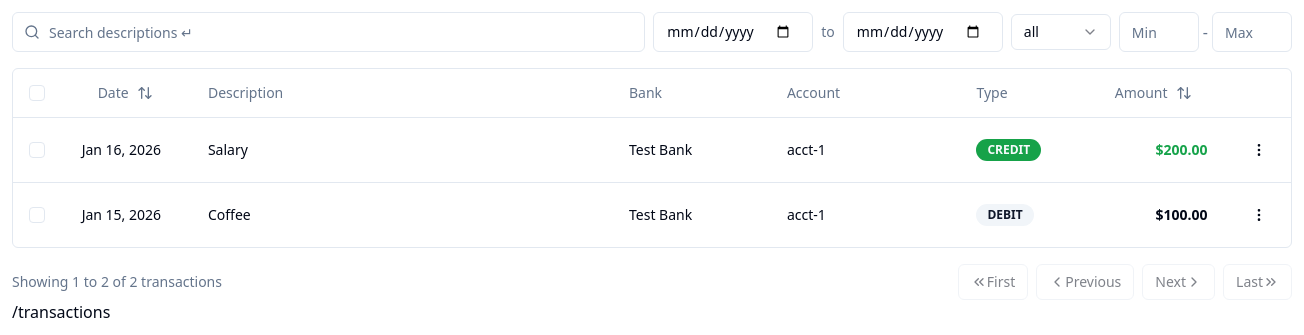
Scenario: TransactionTable permission gating › shows the select column and Edit + Delete row actions when all permissions are granted
Expected: the number of checkboxes is 3, [29,85,45,101]; [29,142,45,158]; [29,206,45,222]
Click the button named "open menu" in the row of "Jan 16, 2026": (1259, 150) [1243,134,1275,166]
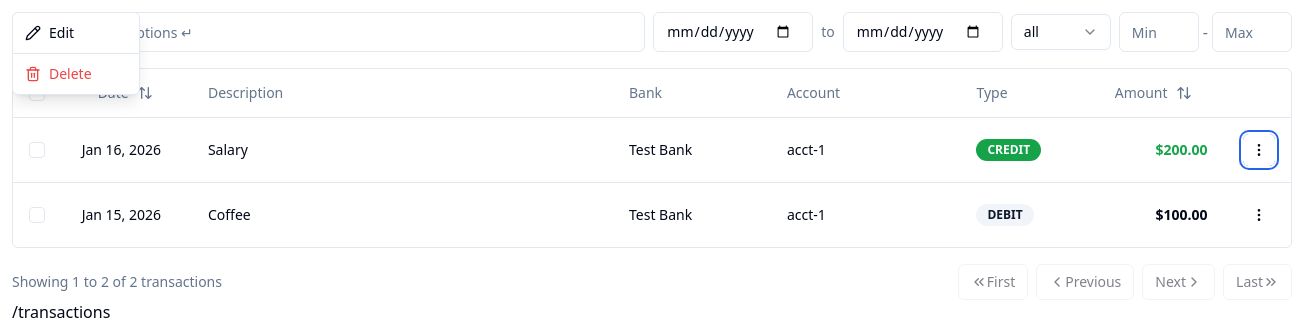
Expected: the menu item "Edit" is shown, [17,17,135,49]
Expected: the menu item "Delete" is shown, [17,58,135,90]
